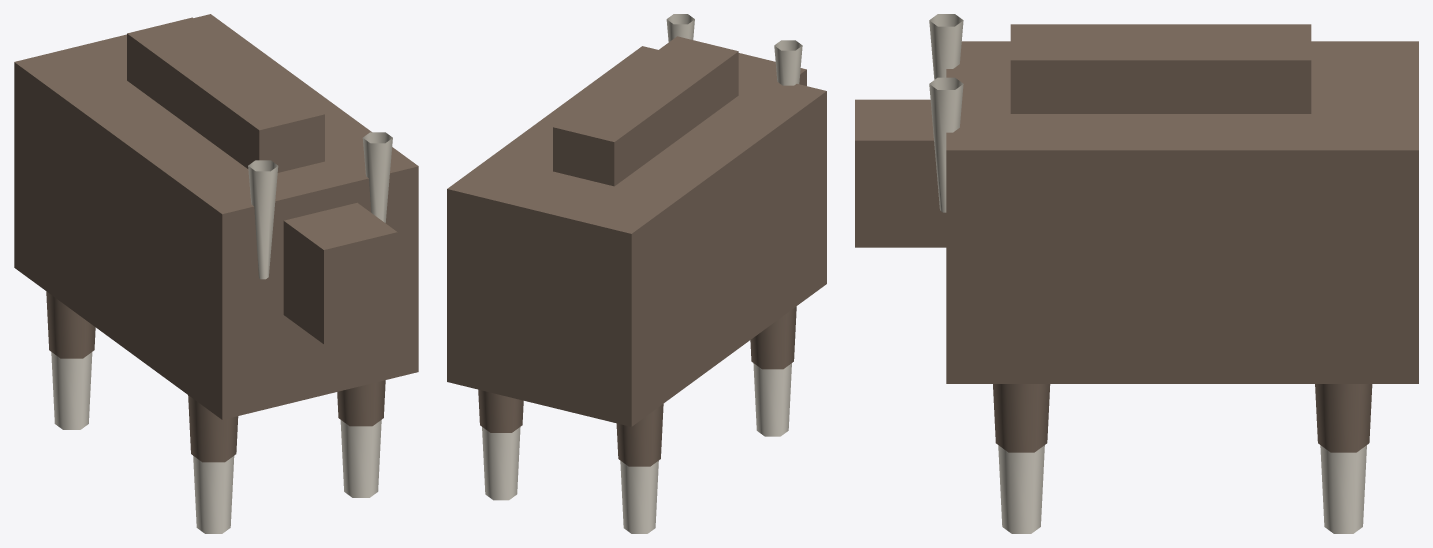
File: gaur.glb
The picture shows the model from 3 angles, left to right: view 1: azimuth 30°, elevation 25°; view 2: azimuth 150°, elevation 25°; view 3: azimuth 270°, elevation 25°; orthographic projection. The views are drawn at different scales.
Parts seen in each view (by area): view 1: MuscularTorso_Node, DorsalRidge_Node, Head_Node, LegLower_0_Node, LegLower_3_Node, LegLower_2_Node, Horn_L_Node, LegUpper_2_Node, LegUpper_0_Node, Horn_R_Node, LegUpper_3_Node; view 2: MuscularTorso_Node, DorsalRidge_Node, LegLower_0_Node, LegLower_2_Node, LegLower_1_Node, LegUpper_0_Node, LegUpper_2_Node, LegUpper_1_Node, Horn_L_Node, Head_Node, Horn_R_Node; view 3: MuscularTorso_Node, DorsalRidge_Node, Head_Node, LegUpper_3_Node, LegUpper_1_Node, LegLower_1_Node, LegLower_3_Node, Horn_R_Node, Horn_L_Node.
Part boxes in pixels (left/top/right/bottom): MuscularTorso_Node: left=14, top=14, right=418, bottom=419; DorsalRidge_Node: left=127, top=17, right=324, bottom=172; Head_Node: left=283, top=202, right=397, bottom=344; LegLower_0_Node: left=51, top=352, right=92, bottom=429; LegLower_3_Node: left=340, top=420, right=381, bottom=497; LegLower_2_Node: left=193, top=456, right=234, bottom=533; Horn_L_Node: left=248, top=160, right=278, bottom=279; LegUpper_2_Node: left=188, top=395, right=238, bottom=462; LegUpper_0_Node: left=46, top=291, right=95, bottom=358; Horn_R_Node: left=362, top=132, right=392, bottom=222; LegUpper_3_Node: left=337, top=380, right=385, bottom=426; MuscularTorso_Node: left=447, top=46, right=826, bottom=426; DorsalRidge_Node: left=553, top=36, right=738, bottom=186; LegLower_0_Node: left=620, top=460, right=658, bottom=533; LegLower_2_Node: left=753, top=363, right=791, bottom=436; LegLower_1_Node: left=482, top=427, right=520, bottom=500; LegUpper_0_Node: left=616, top=404, right=663, bottom=466; LegUpper_2_Node: left=750, top=306, right=796, bottom=369; LegUpper_1_Node: left=478, top=389, right=523, bottom=432; Horn_L_Node: left=774, top=40, right=802, bottom=85; Head_Node: left=738, top=53, right=806, bottom=85; Horn_R_Node: left=666, top=14, right=694, bottom=41; MuscularTorso_Node: left=946, top=41, right=1418, bottom=383; DorsalRidge_Node: left=1010, top=24, right=1311, bottom=113; Head_Node: left=855, top=99, right=946, bottom=247; LegUpper_3_Node: left=993, top=384, right=1050, bottom=452; LegUpper_1_Node: left=1315, top=384, right=1372, bottom=452; LegLower_1_Node: left=1320, top=445, right=1366, bottom=533; LegLower_3_Node: left=998, top=445, right=1044, bottom=533; Horn_R_Node: left=929, top=77, right=963, bottom=212; Horn_L_Node: left=929, top=14, right=963, bottom=79.
Size of the model in its own units: 1.2 by 2.28 by 2.62.
